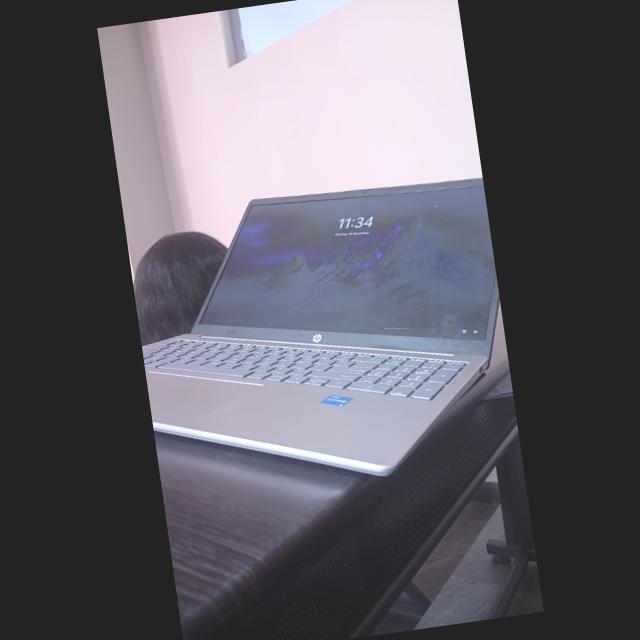laptop: (122, 155, 522, 513)
